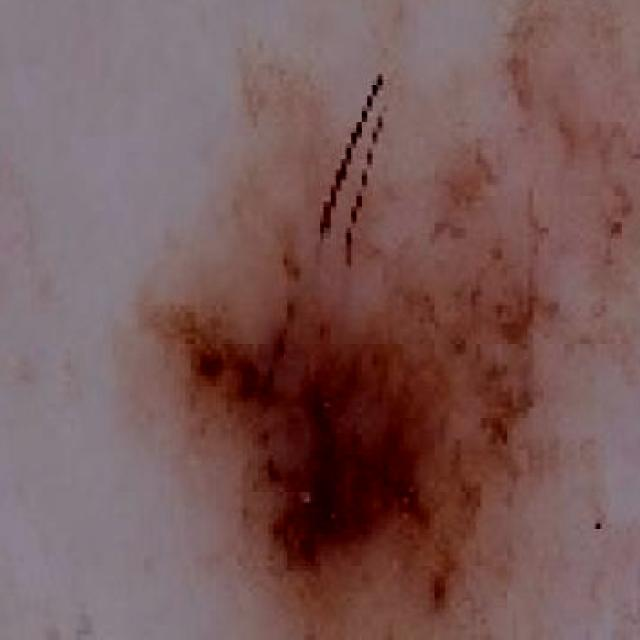MEL: (158, 177, 558, 640)
